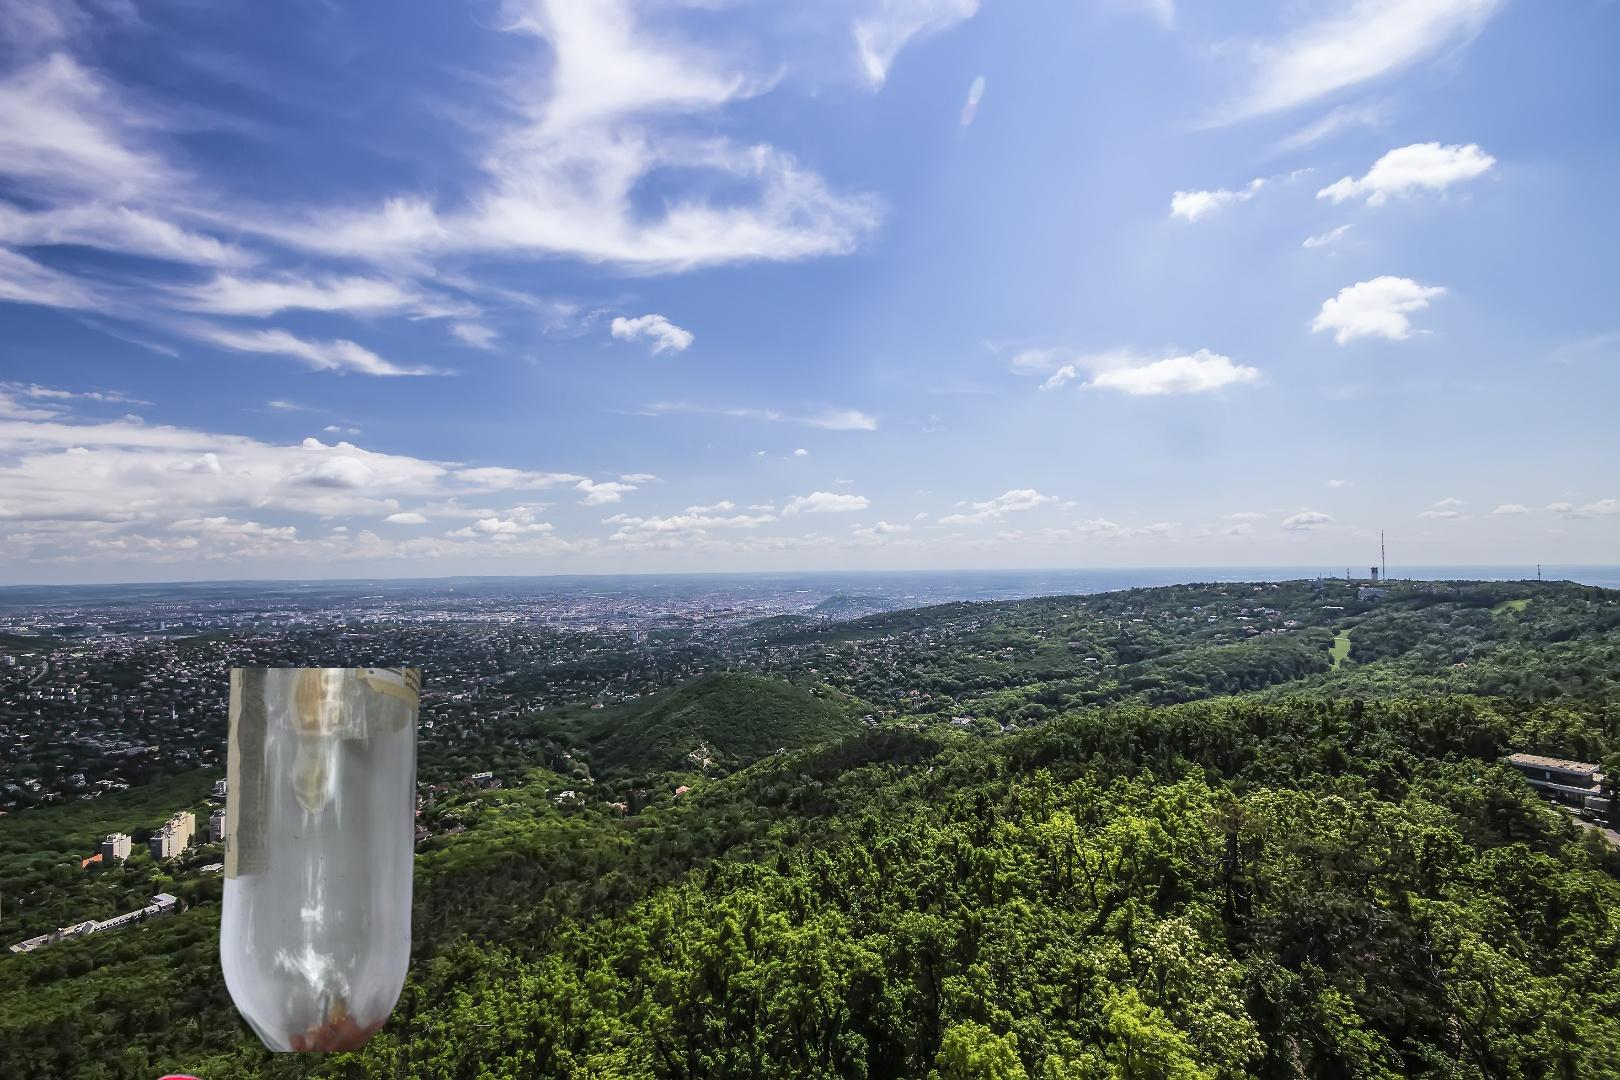glass: (214, 668, 426, 1052)
metal-cans: (144, 1068, 225, 1080)
